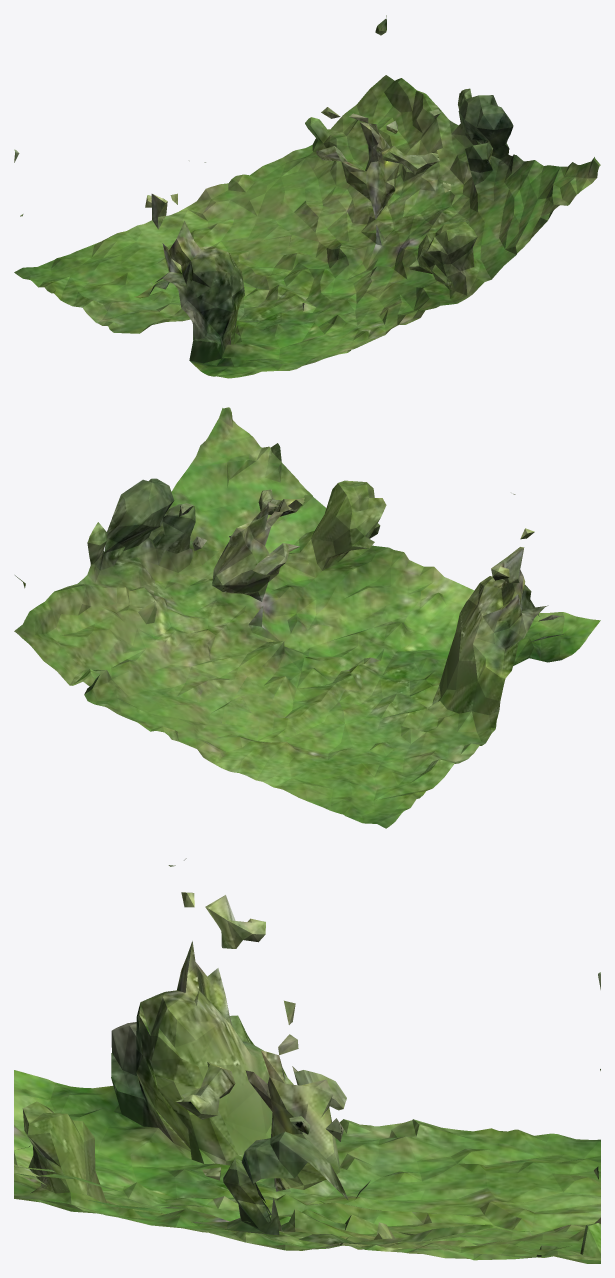
The picture shows the model from 3 angles, top to bottom: view 1: azimuth 30°, elevation 25°; view 2: azimuth 150°, elevation 25°; view 3: azimuth 270°, elevation 25°; orthographic projection. The views are drawn at different scales.
Size of the model in its own units: 26.11 by 14.62 by 26.11.
4 materials, 4 textured.
